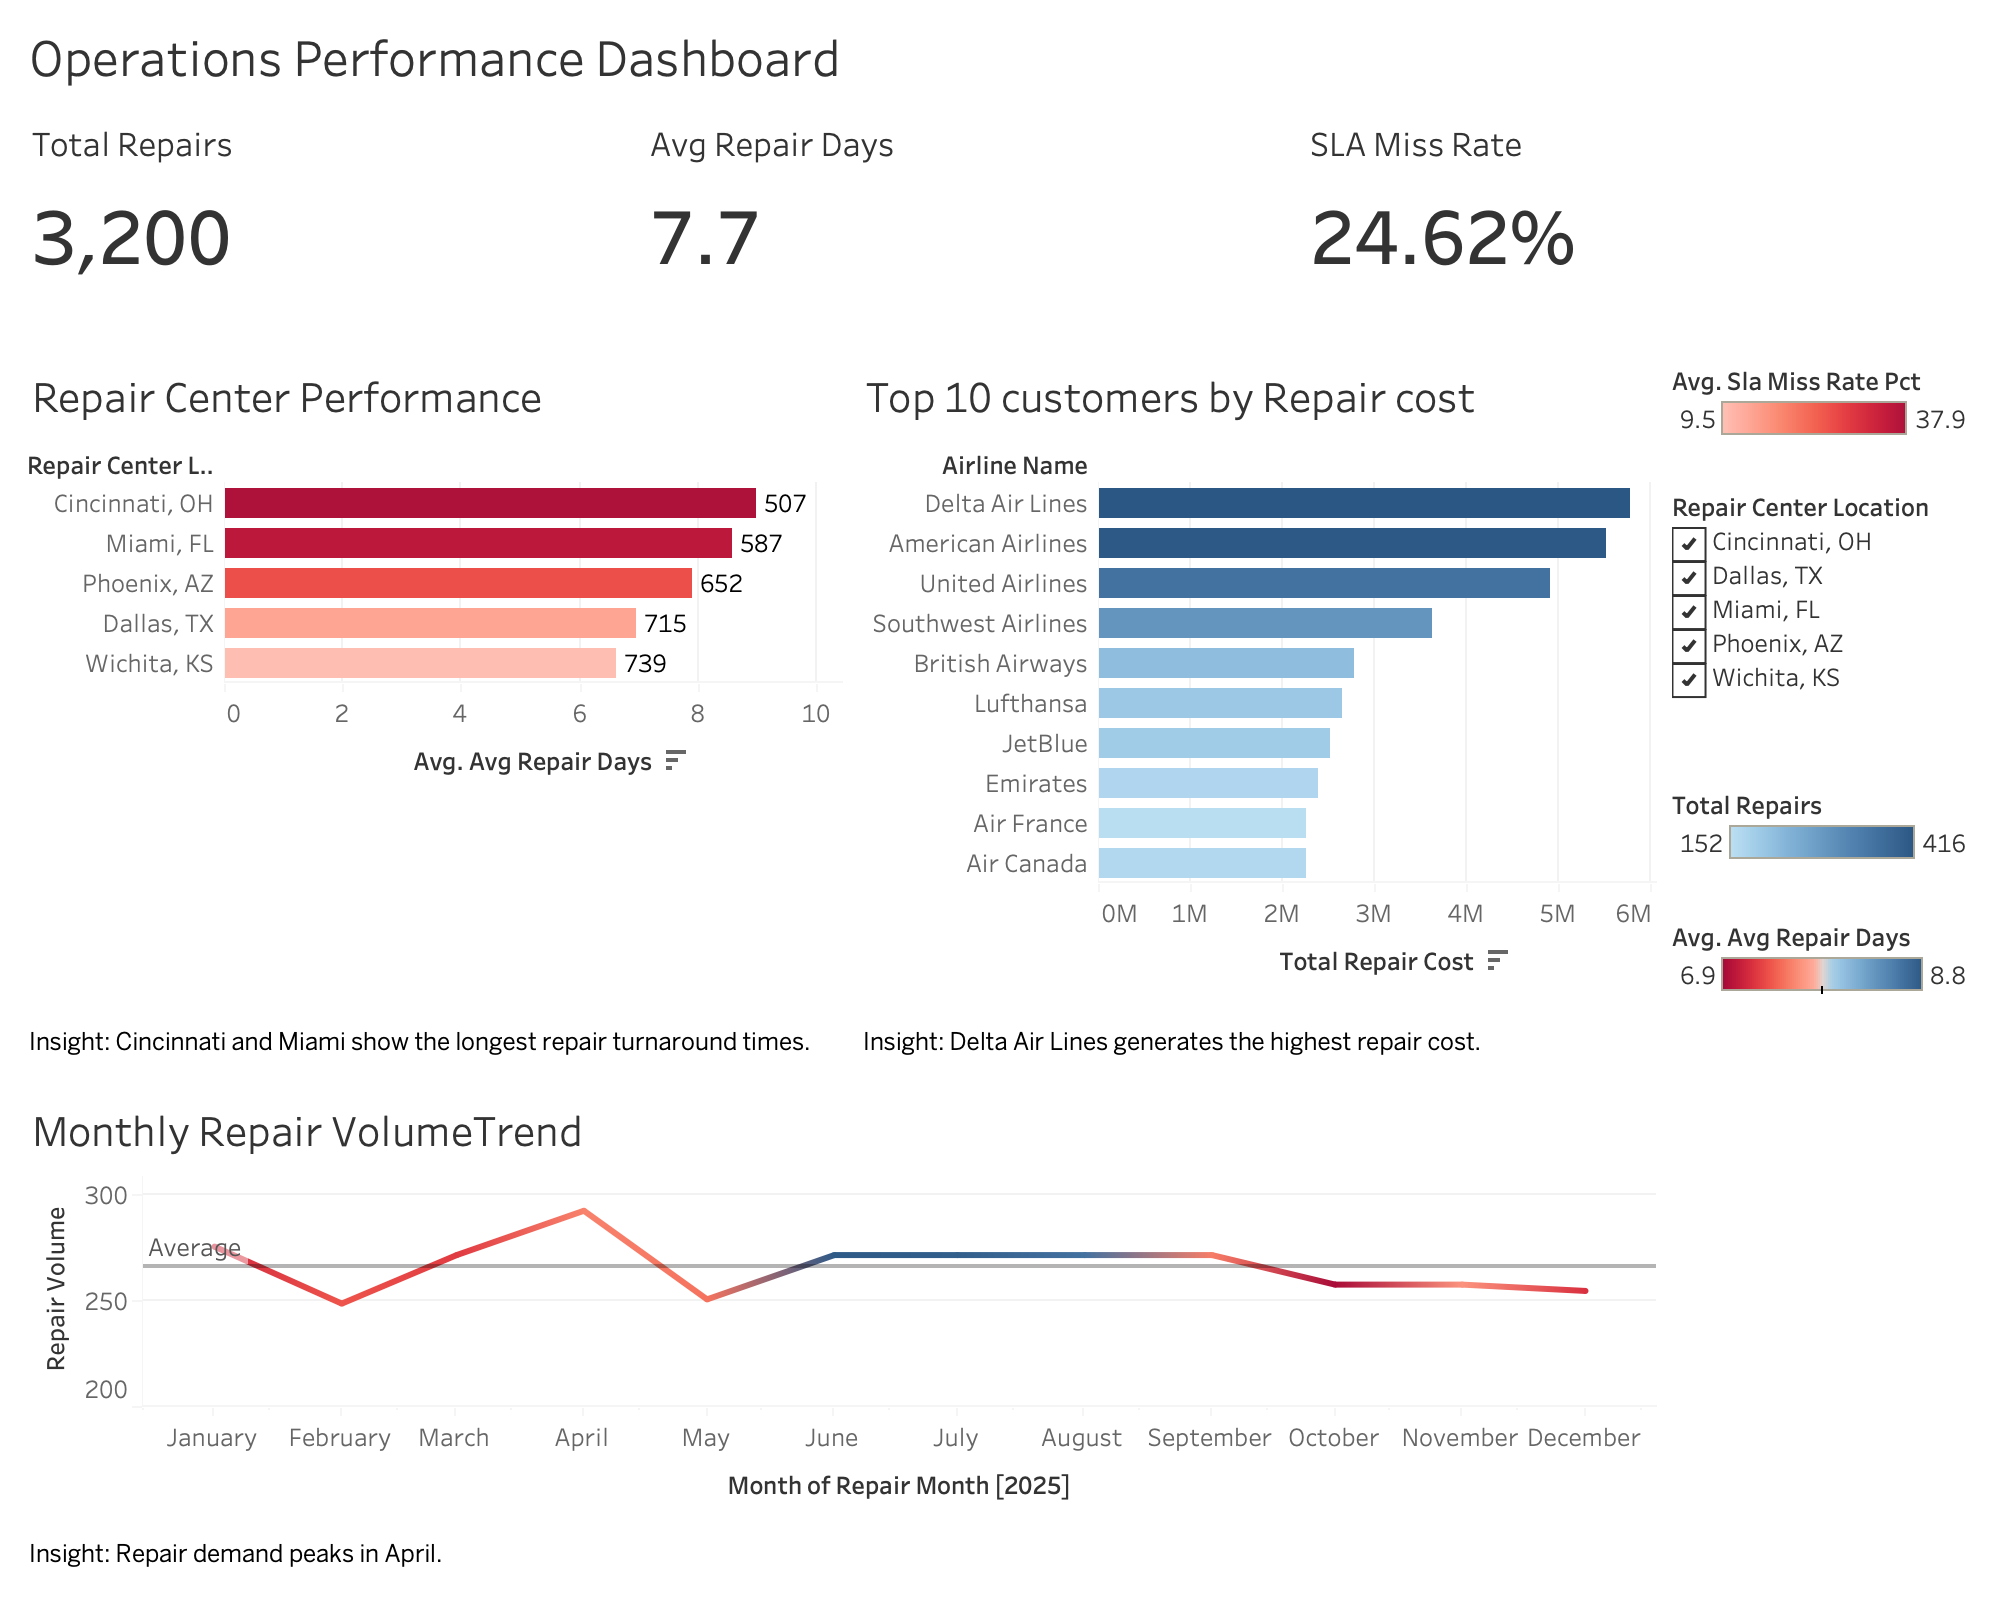

The dashboard page shown, as its layout file describes it:
{"tool":"tableau","page":{"name":"Ops Performance","canvas":[1000,800],"ordinal":0},"visuals":[{"type":"title","box":[8,8,984,42]},{"type":"worksheet","title":"KPI - Total Repairs","mark":"Automatic","box":[8,50,309,124]},{"type":"worksheet","title":"KPI - Avg Repair Days","mark":"Automatic","box":[317,50,330,124]},{"type":"worksheet","title":"KPI - SLA Miss Rate","mark":"Automatic","box":[647,50,305,124]},{"type":"worksheet","title":"Repair Center Performance","mark":"Automatic","rows":["repair_center_location"],"cols":["avg_repair_days"],"box":[8,174,417,326]},{"type":"worksheet","title":"Customer Analysis","mark":"Automatic","rows":["airline_name"],"cols":["total_repair_cost"],"box":[425,174,407,326]},{"type":"legend","title":"Repair Center Performance","param":"[federated.19bjjo411pm93r105xe2j1avdz0k].[avg:sla_miss_rate_pct:qk]","box":[832,174,160,65]},{"type":"filter","title":"Repair Center Performance","param":"[federated.19bjjo411pm93r105xe2j1avdz0k].[none:repair_center_location:nk]","box":[832,239,160,146]},{"type":"legend","title":"Customer Analysis","param":"[federated.1vw5qwz1qjym351brmqvd1npn8nl].[sum:total_repairs:qk]","box":[832,385,160,65]},{"type":"legend","title":"Monthly Repair Trend","param":"[federated.1953x9004kh1bg13r1hjh0pk5csg].[avg:avg_repair_days:qk]","box":[832,450,160,65]},{"type":"text","box":[8,500,417,41]},{"type":"text","box":[425,500,407,41]},{"type":"worksheet","title":"Monthly Repair Trend","mark":"Automatic","rows":["repair_volume"],"cols":["repair_month"],"box":[8,541,824,220.9]},{"type":"text","box":[8,761.9,824,30.1]}]}

Visuals, with their boxes in screenshot pixels (x1, y1, x2, y2), scaled from the page's 1000x800 canvas onto the 2000x1600 screenshot:
title: pyautogui.locateOnScreen(16, 16, 1984, 100)
"KPI - Total Repairs" worksheet: pyautogui.locateOnScreen(16, 100, 634, 348)
"KPI - Avg Repair Days" worksheet: pyautogui.locateOnScreen(634, 100, 1294, 348)
"KPI - SLA Miss Rate" worksheet: pyautogui.locateOnScreen(1294, 100, 1904, 348)
"Repair Center Performance" worksheet: pyautogui.locateOnScreen(16, 348, 850, 1000)
"Customer Analysis" worksheet: pyautogui.locateOnScreen(850, 348, 1664, 1000)
"Repair Center Performance" legend: pyautogui.locateOnScreen(1664, 348, 1984, 478)
"Repair Center Performance" filter: pyautogui.locateOnScreen(1664, 478, 1984, 770)
"Customer Analysis" legend: pyautogui.locateOnScreen(1664, 770, 1984, 900)
"Monthly Repair Trend" legend: pyautogui.locateOnScreen(1664, 900, 1984, 1030)
text: pyautogui.locateOnScreen(16, 1000, 850, 1082)
text: pyautogui.locateOnScreen(850, 1000, 1664, 1082)
"Monthly Repair Trend" worksheet: pyautogui.locateOnScreen(16, 1082, 1664, 1524)
text: pyautogui.locateOnScreen(16, 1524, 1664, 1584)
